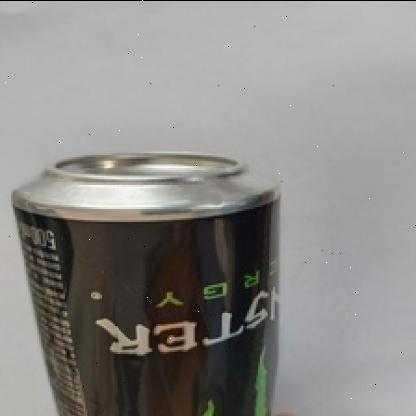Can: (12, 148, 283, 416)
